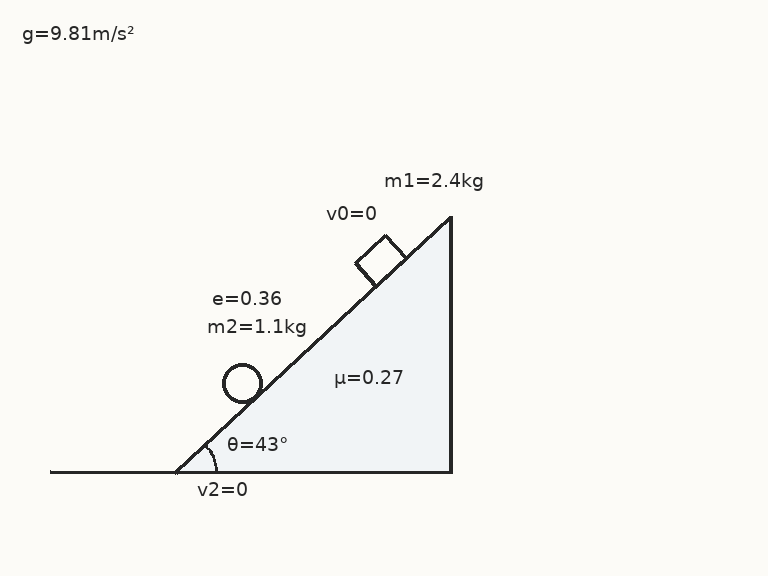ball: (220, 361, 264, 405)
block: (353, 233, 408, 288)
ramp: (174, 214, 452, 474)
